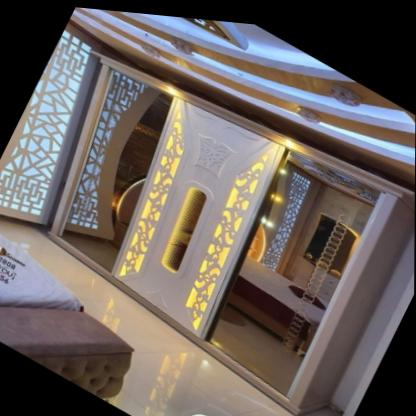Ceramic floor: (0, 217, 301, 416)
Closet: (47, 53, 415, 412)
Gypsum Board: (66, 5, 416, 227)
